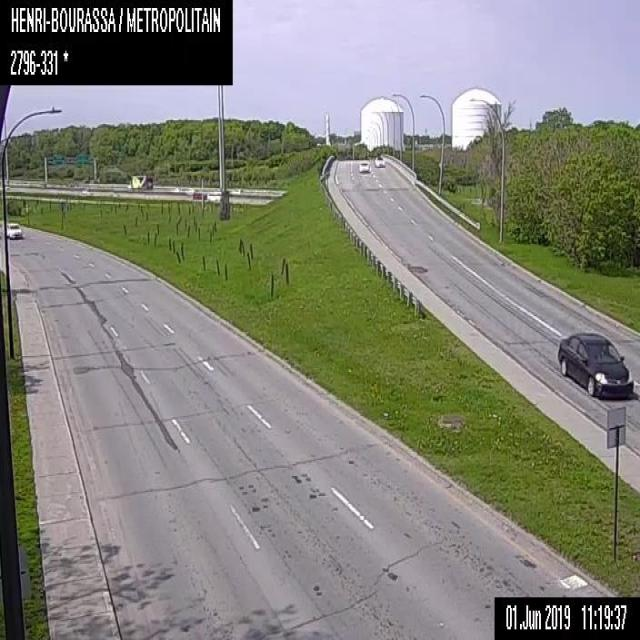vehicle: (554, 328, 632, 403), (129, 172, 152, 191), (6, 220, 23, 239), (193, 187, 206, 200), (357, 160, 370, 172), (374, 155, 385, 166)
